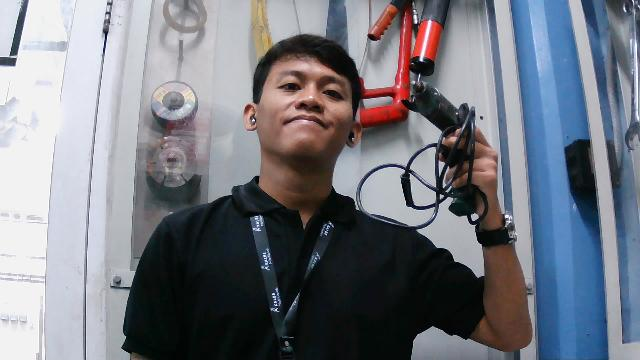gun_lem: (387, 78, 506, 218)
